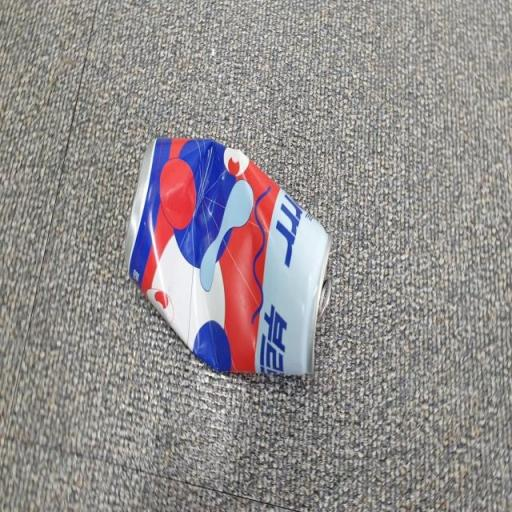metal: (106, 89, 347, 427)
